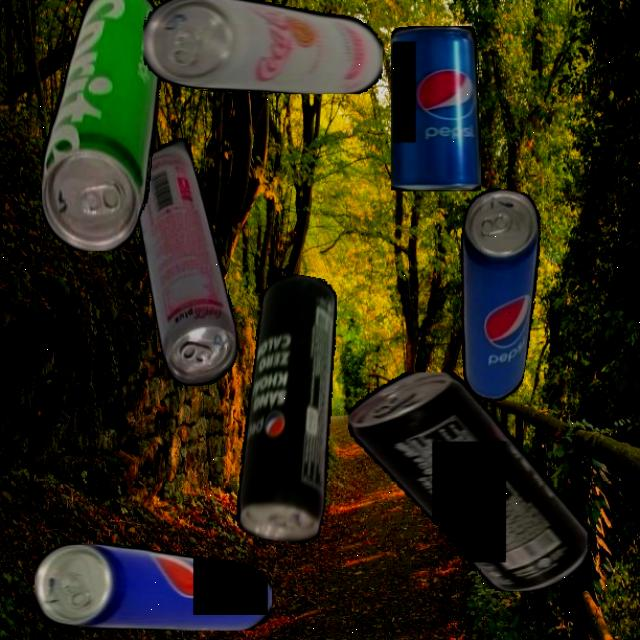debris: (347, 372, 588, 591), (222, 270, 363, 548), (41, 0, 161, 251), (435, 184, 554, 404), (134, 137, 237, 386), (143, 0, 383, 94), (34, 542, 272, 630), (390, 27, 480, 192)
